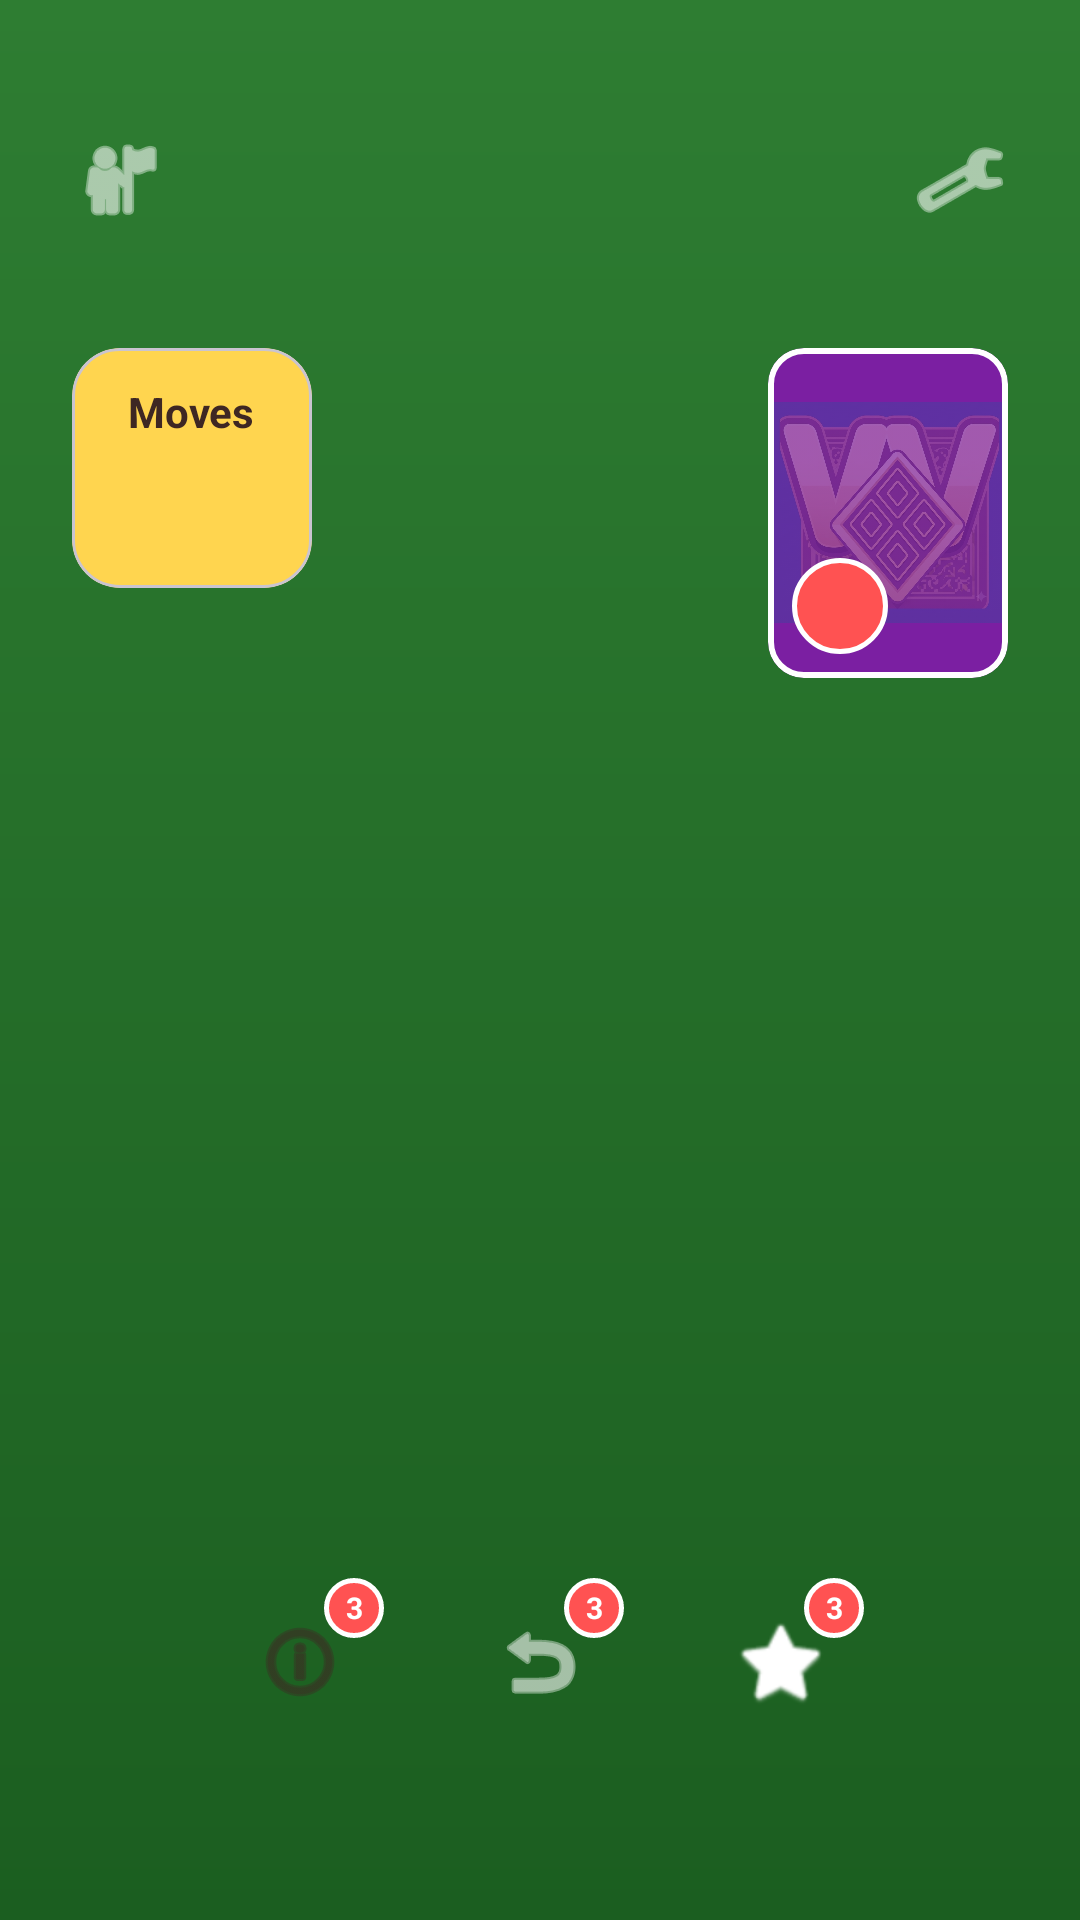

Where to tap for icons on this 1080×1920 app screen, as [x,y]:
PLAYER PROFILE: [121,180]
SETTINGS: [960,180]
stock: [888,513]
